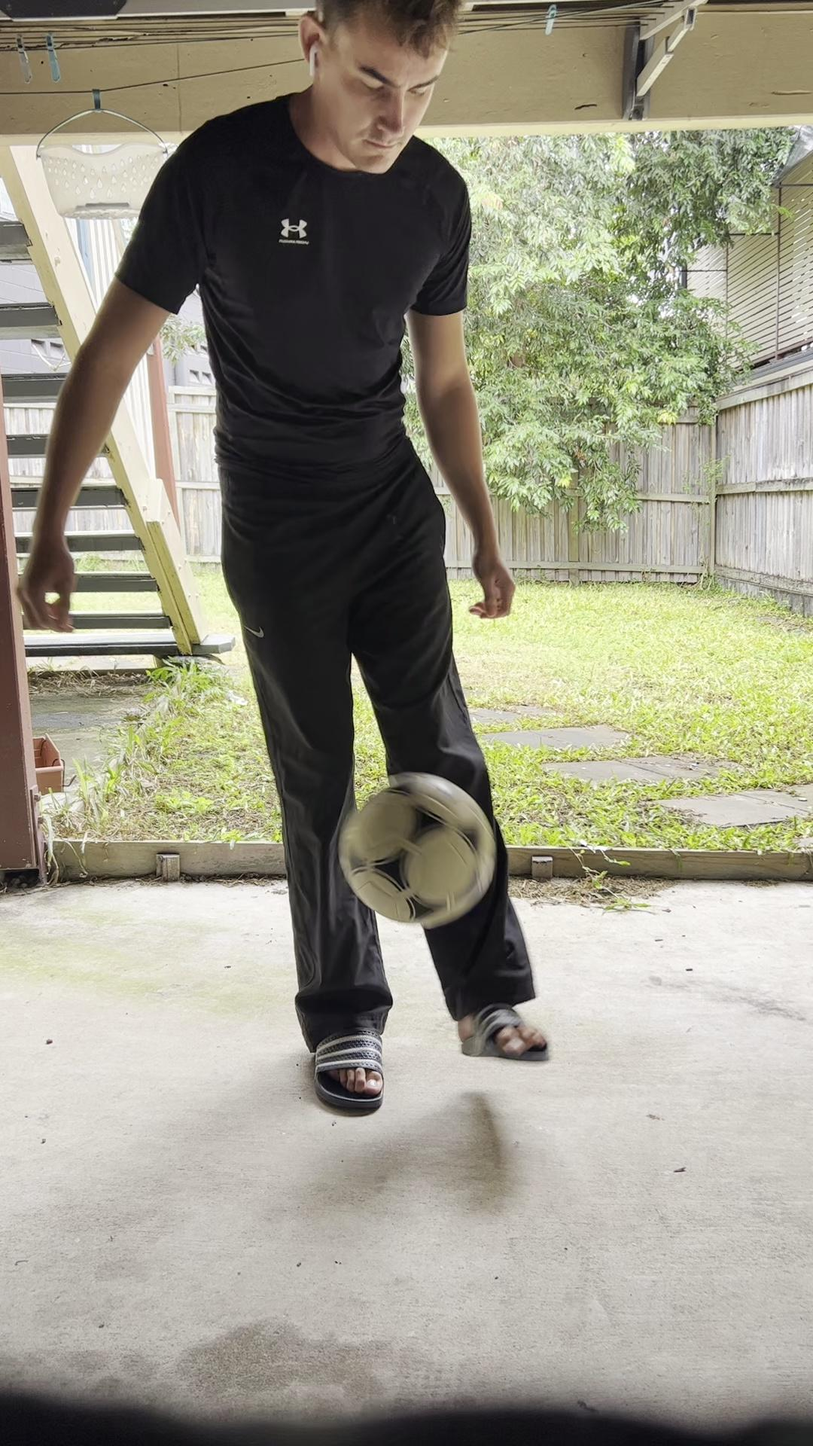ball: (343, 771, 493, 926)
foot: (311, 1024, 386, 1115), (455, 1000, 550, 1060)
person: (17, 1, 549, 1114)
